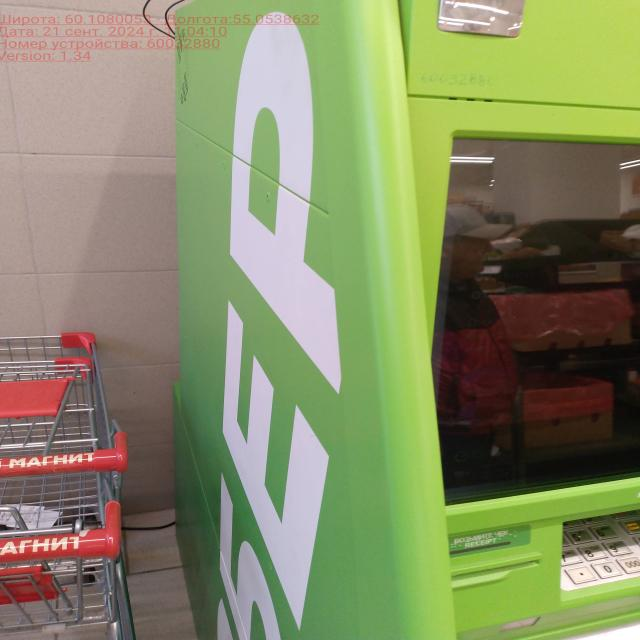bank: (172, 7, 639, 640)
